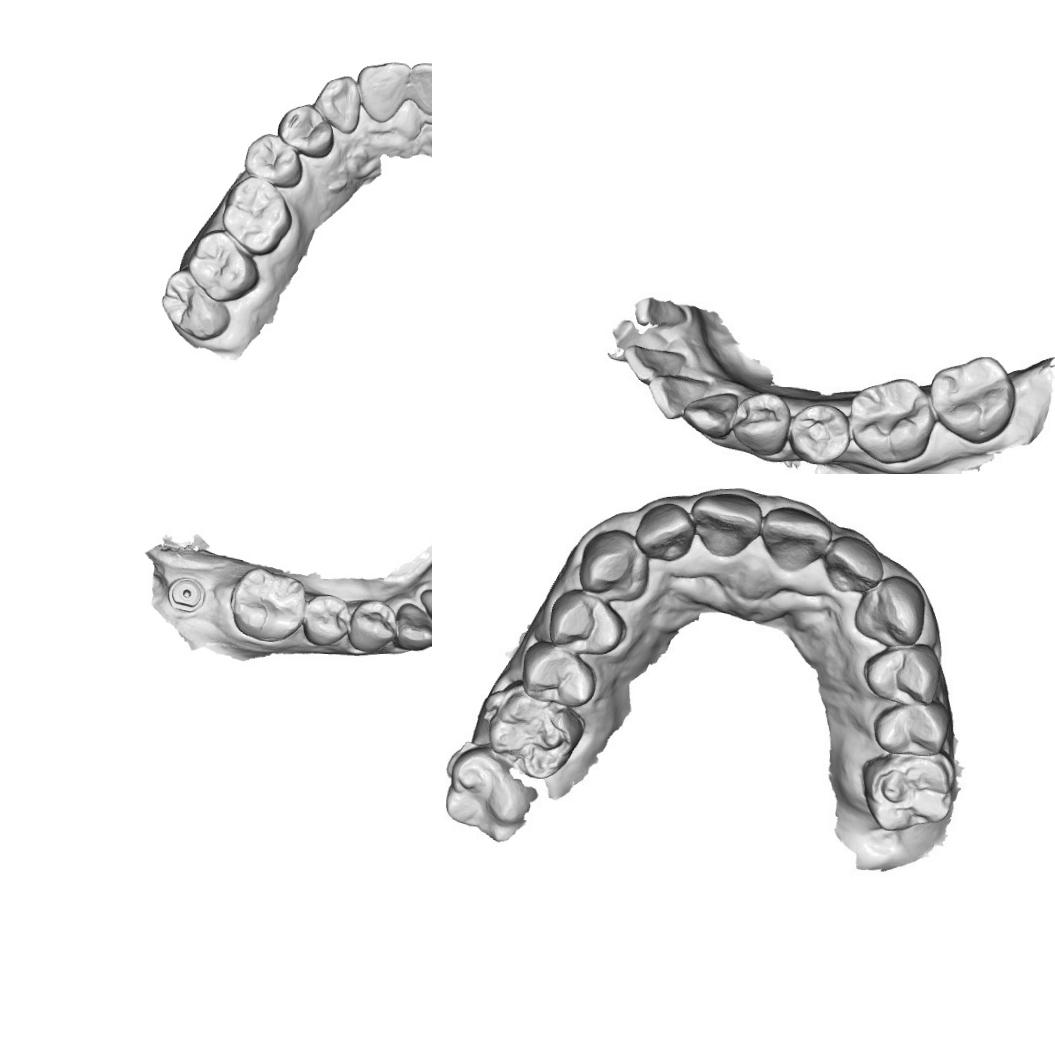canine: (856, 576, 925, 649), (582, 530, 645, 600), (684, 389, 743, 442), (312, 73, 362, 135), (392, 600, 432, 653)
implant: (165, 574, 208, 614)
incisor: (760, 498, 830, 579), (693, 490, 764, 565), (824, 532, 884, 600), (354, 58, 412, 124), (649, 369, 714, 427), (639, 501, 693, 562), (626, 341, 688, 386), (406, 60, 432, 118), (417, 586, 432, 627)
molar: (486, 688, 582, 780), (864, 747, 958, 834), (847, 377, 934, 465), (928, 352, 1014, 436), (444, 749, 526, 834), (226, 564, 308, 644), (219, 174, 294, 258), (158, 266, 234, 344), (185, 228, 262, 304)
premolar: (548, 589, 628, 656), (866, 638, 940, 710), (524, 643, 597, 705), (877, 697, 950, 758), (788, 402, 852, 465), (737, 390, 794, 456), (243, 131, 305, 190), (274, 102, 336, 161), (345, 596, 399, 656), (301, 591, 351, 648)
